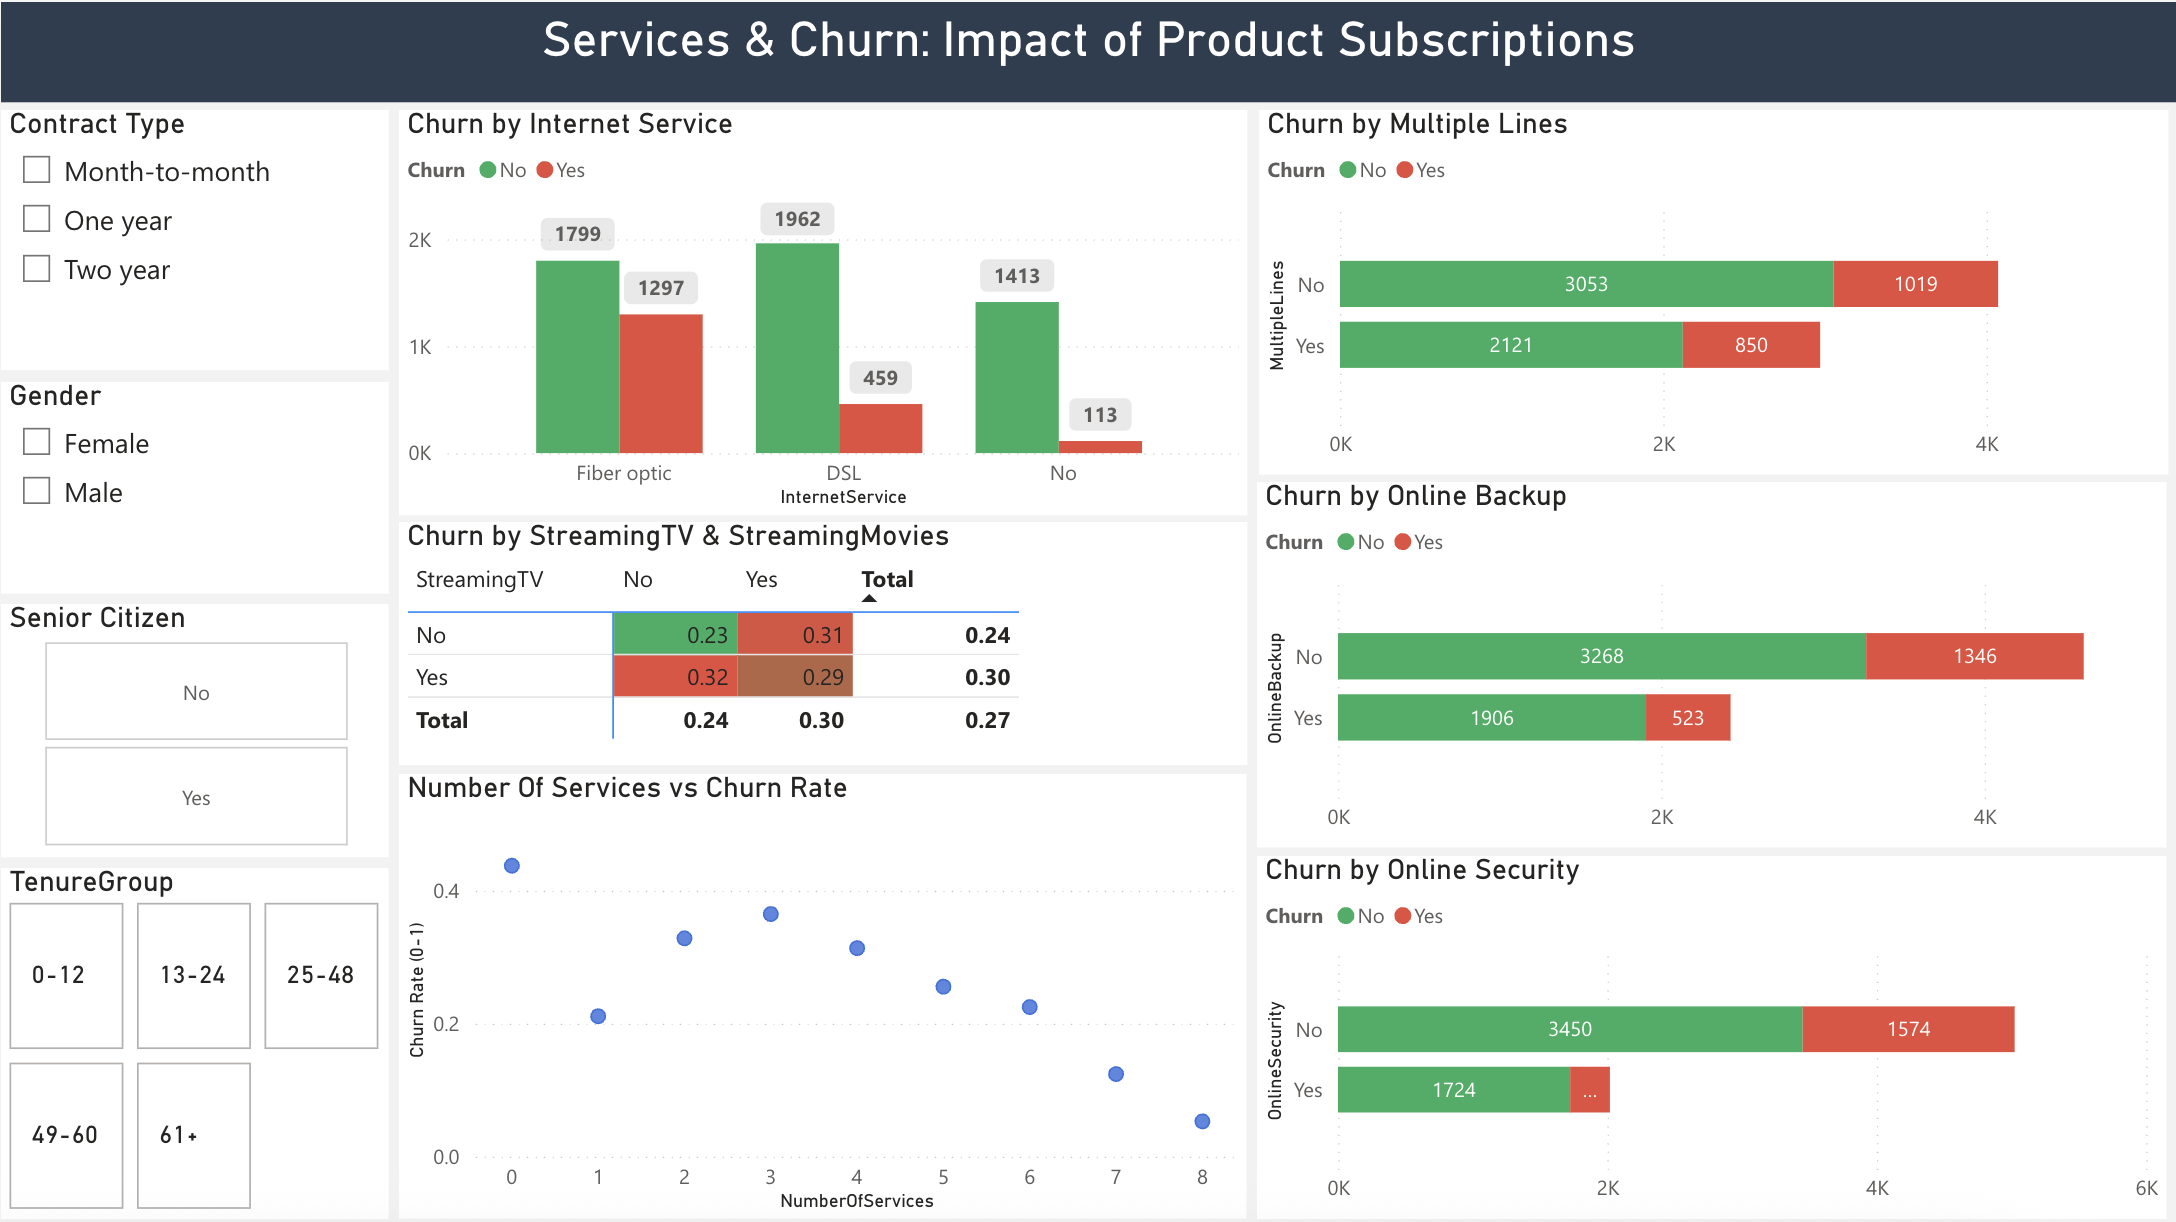

What the dashboard file says about the page in this screenshot:
{"tool":"powerbi","page":{"name":"Services & Churn","canvas":[1280,720],"ordinal":3},"visuals":[{"type":"textbox","box":[0,0,1280,59.1],"z":0},{"type":"clusteredColumnChart","title":"Churn by Internet Service","fields":{"Y":["CountNonNull(CustomerChurnData.customerID)"],"Category":["CustomerChurnData.InternetService"],"Series":["CustomerChurnData.Churn"]},"box":[233.8,63.1,499.2,238.5],"z":1000},{"type":"barChart","title":"Churn by Multiple Lines","fields":{"Series":["CustomerChurnData.Churn"],"Y":["CountNonNull(CustomerChurnData.customerID)"],"Category":["CustomerChurnData.MultipleLines"]},"box":[739.4,63.3,535,214.4],"z":2000},{"type":"barChart","title":"Churn by Online Backup","fields":{"Series":["CustomerChurnData.Churn"],"Y":["CountNonNull(CustomerChurnData.customerID)"],"Category":["CustomerChurnData.OnlineBackup"]},"box":[739.2,282.5,535,215],"z":3000},{"type":"barChart","title":"Churn by Online Security","fields":{"Series":["CustomerChurnData.Churn"],"Y":["CountNonNull(CustomerChurnData.customerID)"],"Category":["CustomerChurnData.OnlineSecurity"]},"box":[739.2,502.5,535,213.3],"z":4000},{"type":"slicer","title":"Contract Type","fields":{"Values":["CustomerChurnData.Contract"]},"box":[0,63.3,227.8,152.8],"z":5000},{"type":"advancedSlicerVisual","fields":{"Values":["CustomerChurnData.TenureGroup"]},"box":[0,509.4,227.8,206.7],"z":6000},{"type":"slicer","title":"Gender","fields":{"Values":["CustomerChurnData.gender"]},"box":[0,223.3,227.8,124.4],"z":7000},{"type":"slicer","title":"Senior Citizen","fields":{"Values":["CustomerChurnData.SeniorCitizen"]},"box":[0,354.4,227.8,148.9],"z":8000},{"type":"pivotTable","title":"Churn by StreamingTV & StreamingMovies","fields":{"Rows":["CustomerChurnData.StreamingTV"],"Values":["Calculations.Churn Rate"],"Columns":["CustomerChurnData.StreamingMovies"]},"box":[234,306,499,143],"z":9000},{"type":"scatterChart","title":"Number Of Services vs Churn Rate","fields":{"Y":["Calculations.Churn Rate (0-1)"],"X":["CustomerChurnData.NumberOfServices"]},"box":[234.2,454.2,498.3,261.7],"z":10000}]}

Visuals, with their boxes in screenshot pixels (x1, y1, x2, y2), scaled from the page's 1280x720 canvas onto the 2176x1222 screenshot:
textbox: x1=0 y1=0 x2=2175 y2=100
"Churn by Internet Service" clusteredColumnChart: x1=397 y1=107 x2=1246 y2=512
"Churn by Multiple Lines" barChart: x1=1257 y1=107 x2=2166 y2=471
"Churn by Online Backup" barChart: x1=1257 y1=479 x2=2166 y2=844
"Churn by Online Security" barChart: x1=1257 y1=853 x2=2166 y2=1215
"Contract Type" slicer: x1=0 y1=107 x2=387 y2=367
advancedSlicerVisual - CustomerChurnData.TenureGroup: x1=0 y1=865 x2=387 y2=1215
"Gender" slicer: x1=0 y1=379 x2=387 y2=590
"Senior Citizen" slicer: x1=0 y1=601 x2=387 y2=854
"Churn by StreamingTV & StreamingMovies" pivotTable: x1=398 y1=519 x2=1246 y2=762
"Number Of Services vs Churn Rate" scatterChart: x1=398 y1=771 x2=1245 y2=1215
